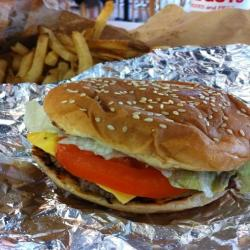burger: (21, 72, 248, 224)
fries: (1, 34, 141, 82)
salad: (166, 161, 247, 192)
